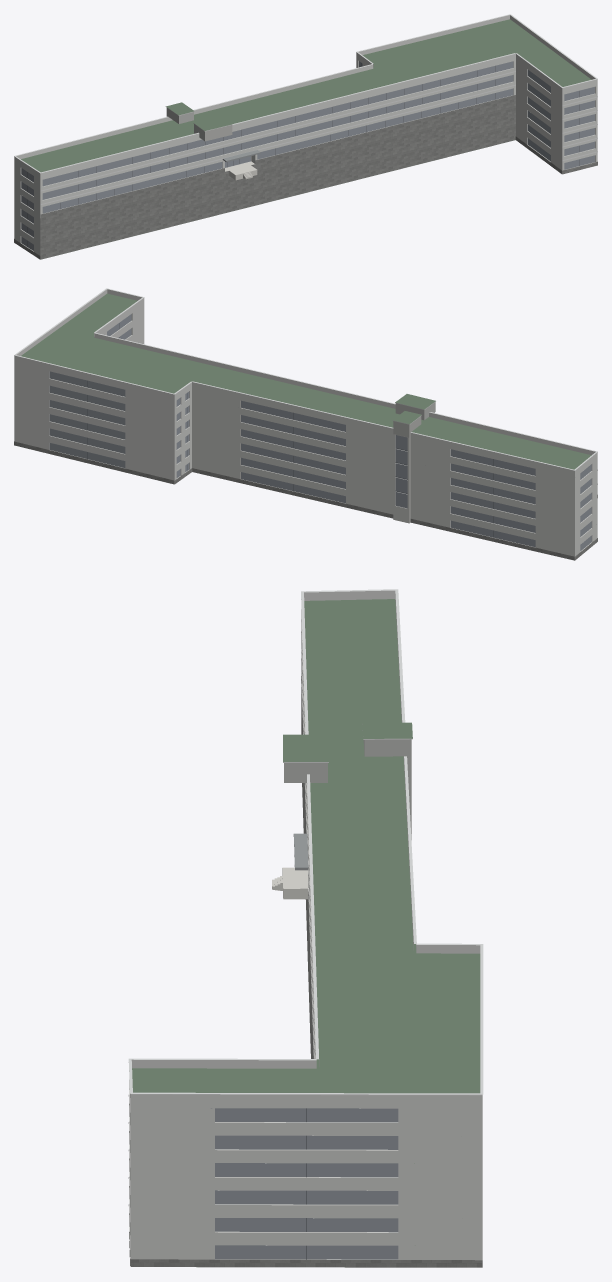
The picture shows the model from 3 angles, top to bottom: view 1: azimuth 30°, elevation 25°; view 2: azimuth 150°, elevation 25°; view 3: azimuth 270°, elevation 25°; orthographic projection. The views are drawn at different scales.
Visible parts, largest first — view 1: b42__base, b42__wall, b42__roof, b42__glass, b42__parapet, b42__trim, b42__wall2, b42__frame, b42__entranceStair; view 2: b42__wall, b42__roof, b42__glass, b42__parapet, b42__base, b42__trim, b42__wall2; view 3: b42__roof, b42__wall, b42__glass, b42__parapet, b42__trim, b42__base, b42__wall2, b42__entranceStair.
Boxes of the visible parts, bbox=[...] form: b42__base: bbox=[14, 95, 597, 259]; b42__wall: bbox=[14, 56, 597, 255]; b42__roof: bbox=[21, 19, 591, 172]; b42__glass: bbox=[21, 61, 594, 250]; b42__parapet: bbox=[14, 15, 597, 177]; b42__trim: bbox=[14, 14, 597, 204]; b42__wall2: bbox=[166, 108, 232, 141]; b42__frame: bbox=[27, 63, 579, 246]; b42__entranceStair: bbox=[225, 161, 257, 180]; b42__wall: bbox=[14, 302, 597, 560]; b42__roof: bbox=[21, 293, 591, 469]; b42__glass: bbox=[49, 314, 591, 551]; b42__parapet: bbox=[14, 289, 597, 474]; b42__base: bbox=[14, 441, 597, 560]; b42__trim: bbox=[14, 288, 597, 484]; b42__wall2: bbox=[393, 402, 435, 523]; b42__roof: bbox=[132, 599, 480, 1267]; b42__wall: bbox=[129, 610, 482, 1265]; b42__glass: bbox=[211, 1108, 398, 1259]; b42__parapet: bbox=[130, 590, 482, 1102]; b42__trim: bbox=[128, 589, 483, 1232]; b42__base: bbox=[129, 676, 482, 1267]; b42__wall2: bbox=[284, 739, 411, 839]; b42__entranceStair: bbox=[272, 867, 308, 899].
Size of the model in its own units: 142 by 25.13 by 42.16.
11 materials, 1 textured.
